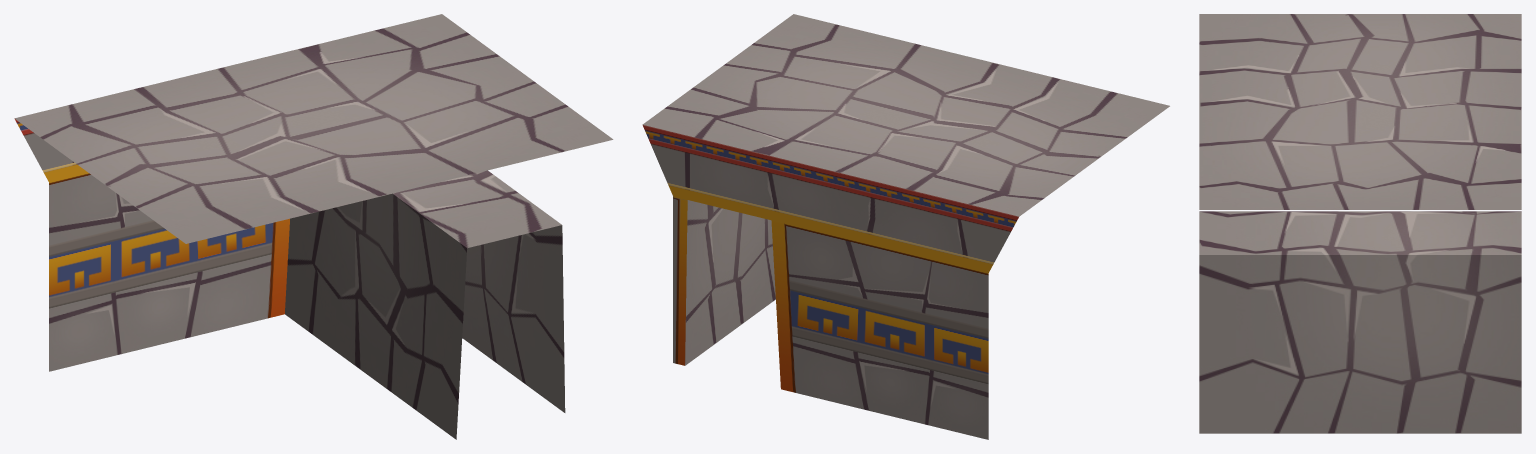
File: cau chan phai.fbx
The picture shows the model from 3 angles, left to right: view 1: azimuth 30°, elevation 25°; view 2: azimuth 150°, elevation 25°; view 3: azimuth 270°, elevation 25°; orthographic projection. The views are drawn at different scales.
Parts seen in each view (by area): view 1: pCube65; view 2: pCube65; view 3: pCube65.
Boxes of the visible parts, box(x1,y1,x2,y2) form: pCube65: box(14, 14, 613, 439); pCube65: box(642, 14, 1169, 439); pCube65: box(1199, 14, 1521, 433).
Size of the model in its own units: 834 by 488 by 580.
